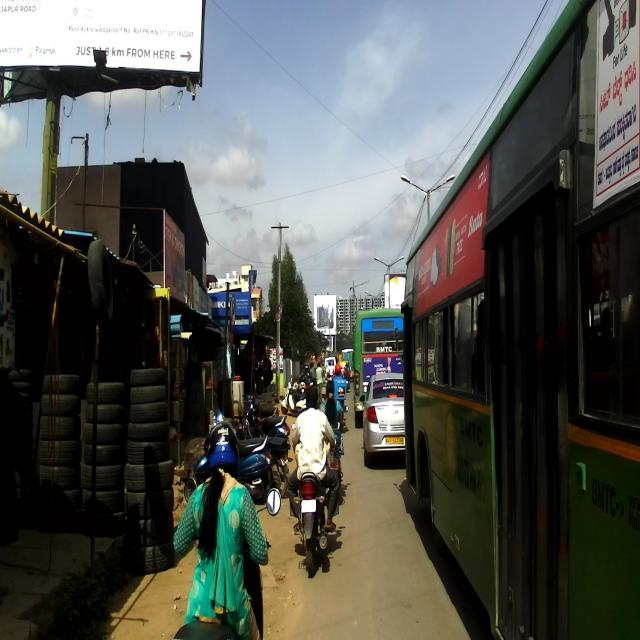bus: (393, 0, 639, 638)
motorcycle: (290, 423, 340, 575), (230, 422, 292, 501)
scooter: (192, 408, 271, 497), (243, 392, 291, 450)
